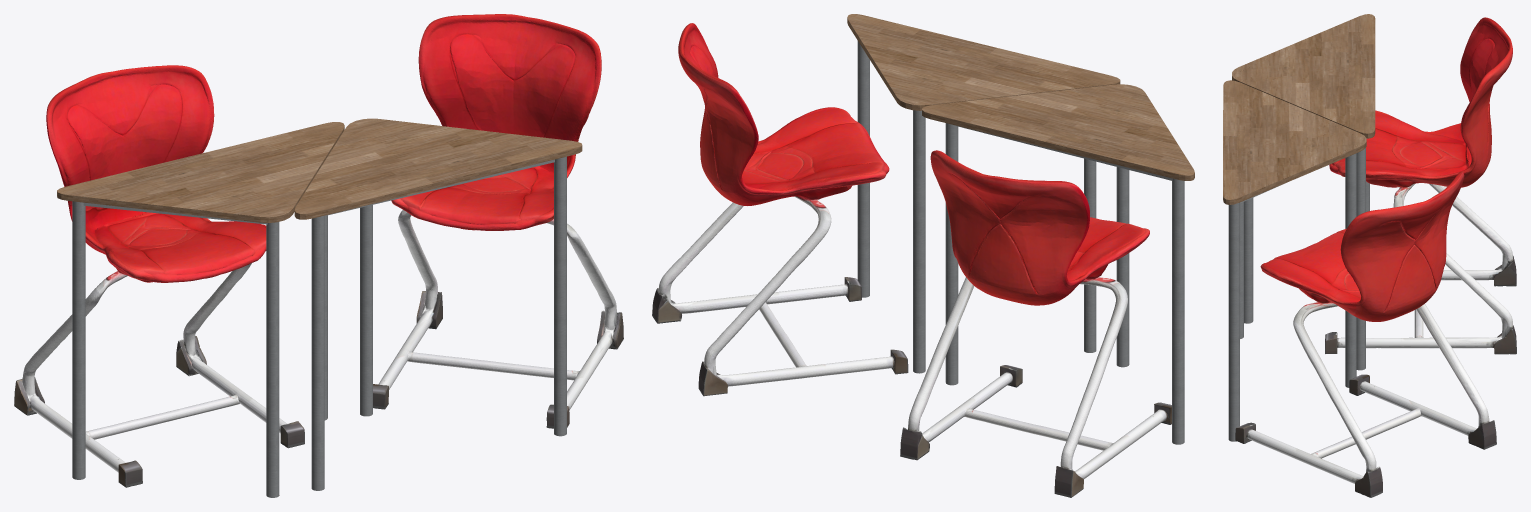
Rendered from Tischaufstellung1.glb.
3 renders of one model, left to right at view 1: azimuth 30°, elevation 25°; view 2: azimuth 150°, elevation 25°; view 3: azimuth 270°, elevation 25°, orthographic. The views are drawn at different scales.
Parts seen in each view (by area): view 1: temp.001; view 2: temp.001; view 3: temp.001.
Part boxes in pixels (bbox=[...]): temp.001: bbox=[14, 14, 623, 497]; temp.001: bbox=[652, 14, 1194, 497]; temp.001: bbox=[1223, 14, 1516, 497].
Bounding box in the file's own units: 3.77 × 2.01 × 1.97.
Materials: 3 (3 with a texture image).
